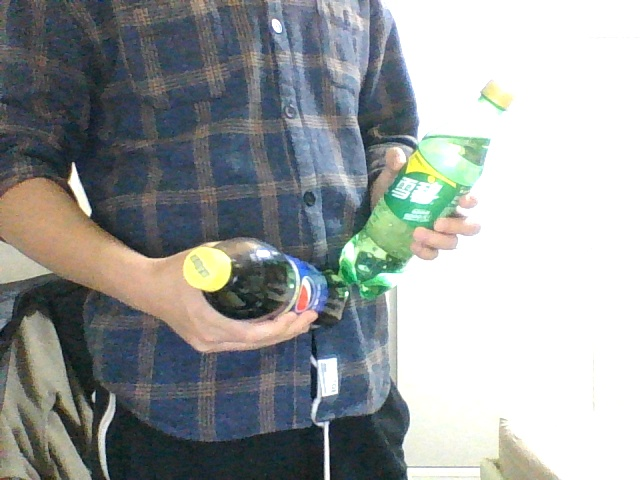Cola: (182, 238, 350, 328)
Sprite: (337, 79, 516, 295)
